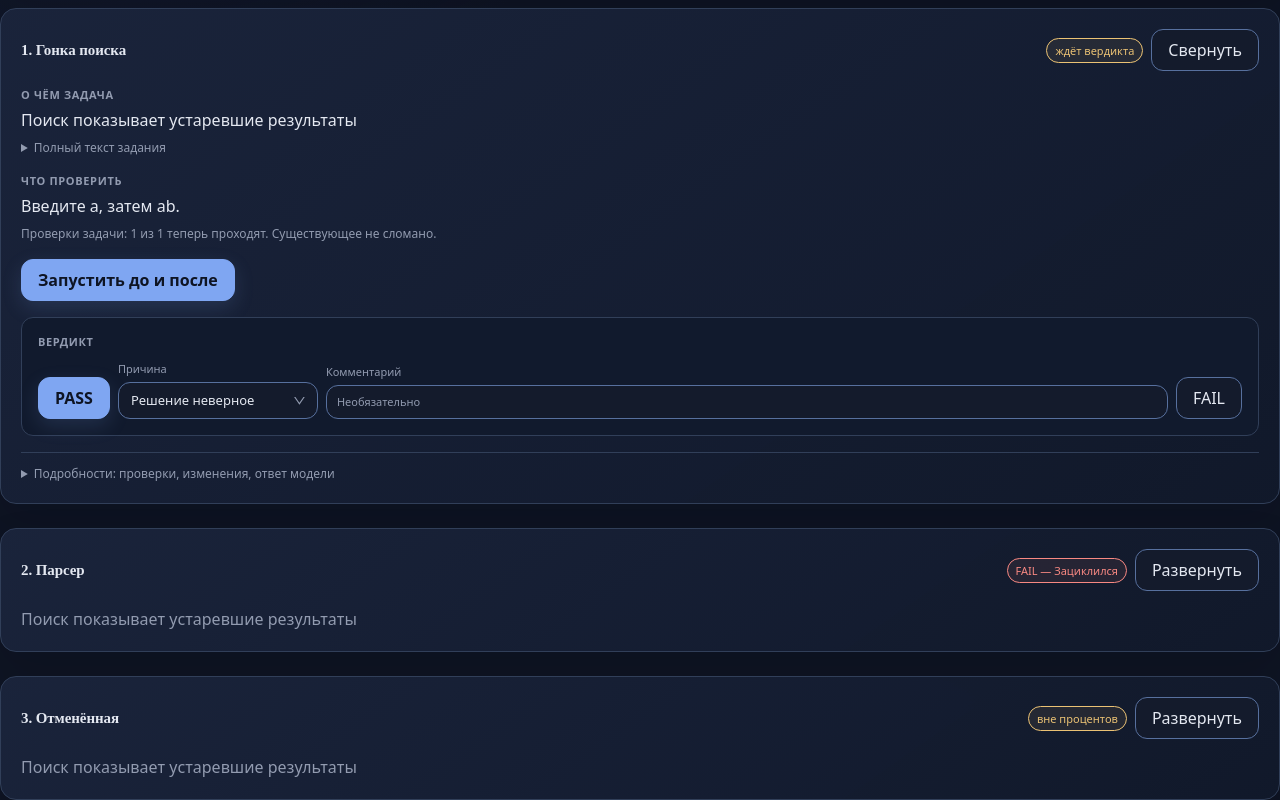
прогон набора › не спрашивает человека там, где причина видна из исхода
The image size is (1280, 800).
(page scrolled)
Expected: the heading "1. Гонка поиска" is shown, x1=21 y1=42 x2=126 y2=59
Click the button "Развернуть" next to "Зациклился" at (1197, 570), box x1=1135 y1=550 x2=1259 y2=592
(page scrolled)
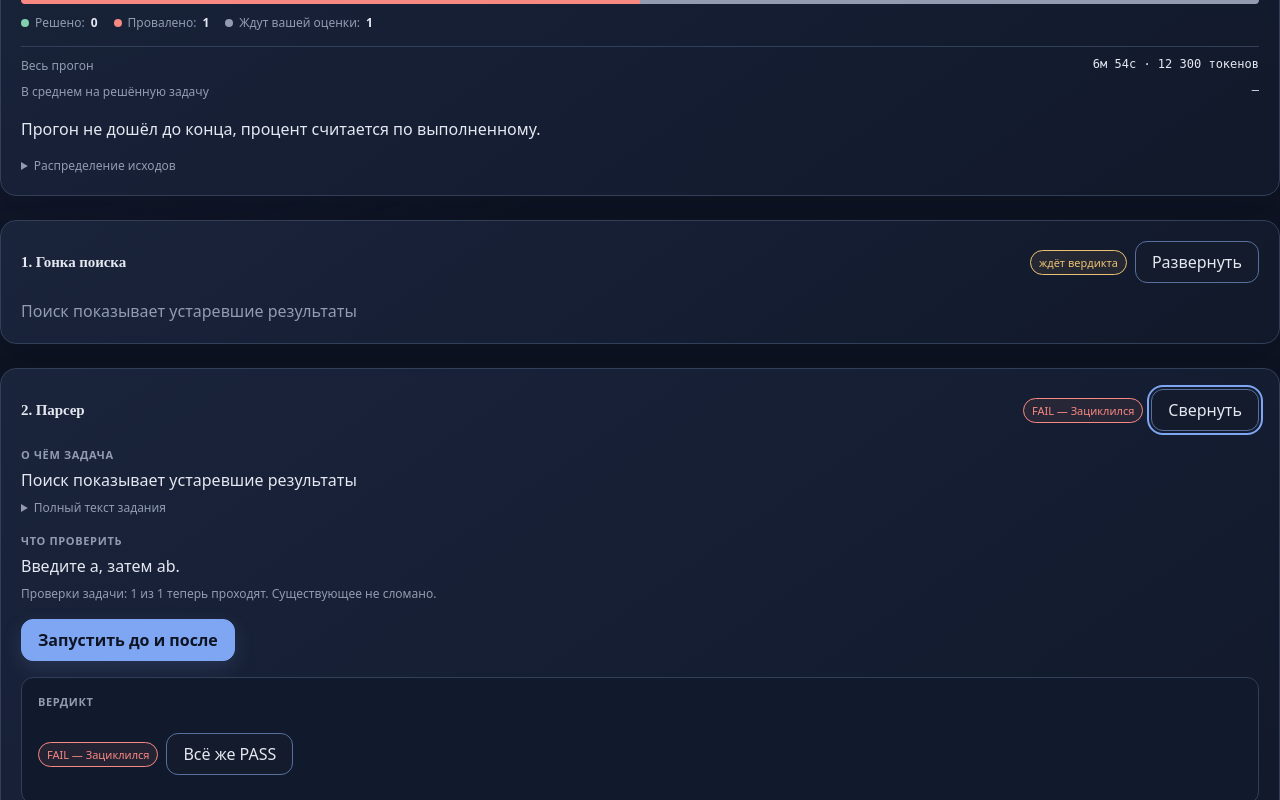
Result: the text "FAIL — Зациклился" is shown 2 times at x1=1023 y1=398 x2=1143 y2=423; x1=38 y1=742 x2=158 y2=767
Result: the button "Всё же PASS" is shown at x1=166 y1=734 x2=293 y2=776
